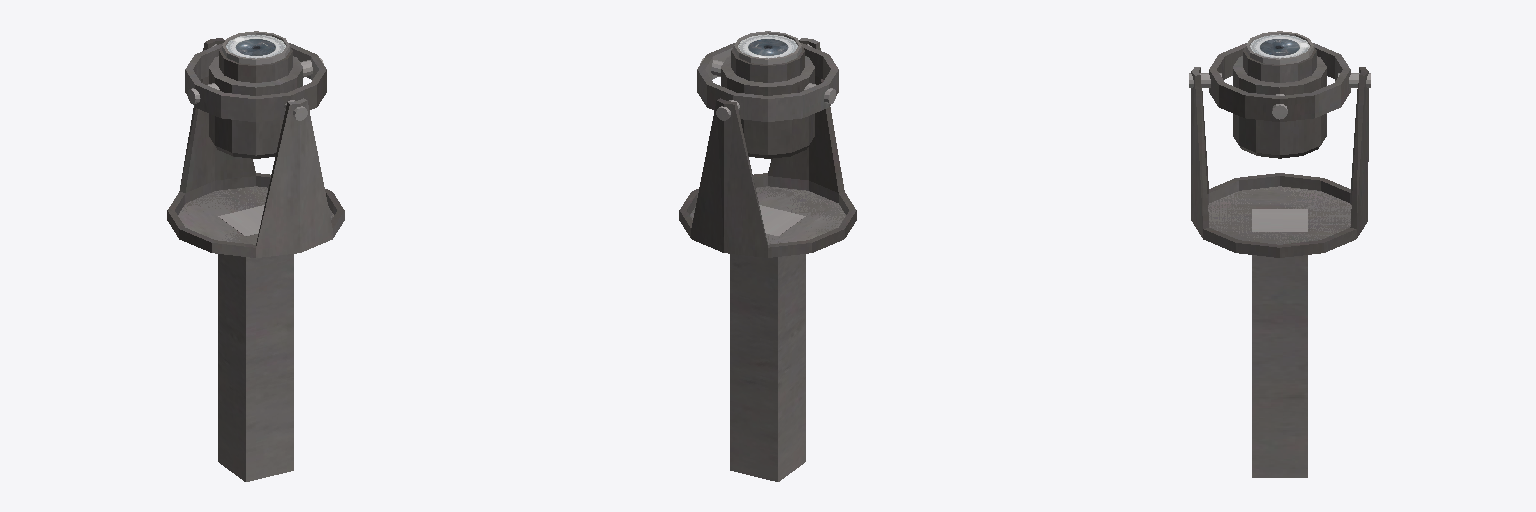
3 views of the same model, side by side, from view 1: azimuth 30°, elevation 25°; view 2: azimuth 150°, elevation 25°; view 3: azimuth 270°, elevation 25° (orthographic).
Parts seen in each view (by area): view 1: Bridge_Compass.obj; view 2: Bridge_Compass.obj; view 3: Bridge_Compass.obj.
Part boxes in pixels (x1,y1,x2,y2): Bridge_Compass.obj: (167,31,344,481); Bridge_Compass.obj: (679,31,856,481); Bridge_Compass.obj: (1189,31,1370,477).
Bounding box in the file's own units: 5.32 × 13.96 × 5.48.
Materials: 1 (1 with a texture image).